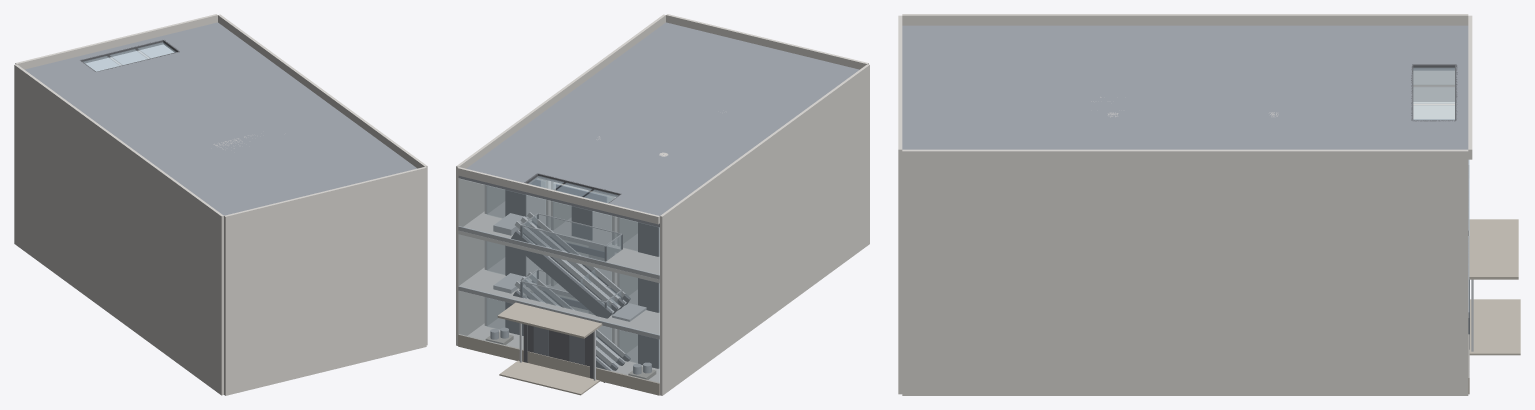
Rendered from acropolis-mall.glb.
The picture shows the model from 3 angles, left to right: view 1: azimuth 30°, elevation 25°; view 2: azimuth 150°, elevation 25°; view 3: azimuth 270°, elevation 25°; orthographic projection. The views are drawn at different scales.
Visible parts, largest first — view 1: MALL_WALL_SIDE_L, MALL_WALL_REAR, MALL_ROOF_C, MALL_ROOF_B, MALL_ROOF_A, MALL_PARAPET_L, MALL_PARAPET_R, MALL_PARAPET_B, MALL_PARAPET_F, MALL_FACADE_B3, MALL_SKYLIGHT_FRAME_F, MALL_ROOF_D (+2 smaller); view 2: MALL_WALL_SIDE_L, MALL_ROOF_C, MALL_ROOF_B, MALL_FACADE_B2, MALL_ROOF_A, MALL_FACADE_B3, MALL_WALL_SIDE_R, MALL_FACADE_B1_L, MALL_FACADE_B1_R, MALL_FACADE_PLINTH, MALL_PARAPET_L, MALL_PARAPET_R (+46 smaller); view 3: MALL_WALL_SIDE_R, MALL_ROOF_C, MALL_ROOF_A, MALL_ROOF_B, MALL_PARAPET_R, MALL_PARAPET_L, MALL_CANOPY_SLAB, MALL_PLAZA, MALL_WALL_SIDE_L, MALL_WALL_REAR, MALL_SKYLIGHT_PANEL_1, MALL_SKYLIGHT_PANEL_2 (+5 smaller).
Boxes of the visible parts, <box> form: MALL_WALL_SIDE_L: <box>14,72,223,395</box>; MALL_WALL_REAR: <box>224,175,426,395</box>; MALL_ROOF_C: <box>96,52,358,203</box>; MALL_ROOF_B: <box>160,22,417,182</box>; MALL_ROOF_A: <box>25,57,274,215</box>; MALL_PARAPET_L: <box>14,64,223,223</box>; MALL_PARAPET_R: <box>218,14,427,173</box>; MALL_PARAPET_B: <box>224,167,426,223</box>; MALL_PARAPET_F: <box>15,14,217,69</box>; MALL_FACADE_B3: <box>86,45,173,71</box>; MALL_SKYLIGHT_FRAME_F: <box>80,40,163,63</box>; MALL_ROOF_D: <box>75,36,163,60</box>; MALL_WALL_SIDE_L: <box>660,72,869,395</box>; MALL_ROOF_C: <box>538,37,808,193</box>; MALL_ROOF_B: <box>458,22,724,192</box>; MALL_FACADE_B2: <box>458,231,659,335</box>; MALL_ROOF_A: <box>601,57,859,227</box>; MALL_FACADE_B3: <box>458,178,659,275</box>; MALL_WALL_SIDE_R: <box>456,173,484,345</box>; MALL_FACADE_B1_L: <box>596,325,659,383</box>; MALL_FACADE_B1_R: <box>458,291,523,349</box>; MALL_FACADE_PLINTH: <box>458,334,659,395</box>; MALL_PARAPET_L: <box>660,64,869,223</box>; MALL_PARAPET_R: <box>456,14,665,173</box>; MALL_WALL_SIDE_R: <box>902,161,1468,395</box>; MALL_ROOF_C: <box>902,64,1412,120</box>; MALL_ROOF_A: <box>902,25,1468,64</box>; MALL_ROOF_B: <box>902,120,1468,149</box>; MALL_PARAPET_R: <box>902,149,1468,161</box>; MALL_PARAPET_L: <box>902,14,1468,25</box>; MALL_CANOPY_SLAB: <box>1469,219,1518,279</box>; MALL_PLAZA: <box>1469,299,1520,355</box>; MALL_WALL_SIDE_L: <box>1413,70,1454,101</box>; MALL_WALL_REAR: <box>898,159,902,394</box>; MALL_SKYLIGHT_PANEL_1: <box>1413,67,1454,85</box>; MALL_SKYLIGHT_PANEL_2: <box>1413,86,1454,104</box>.
Size of what is drawn, in the model's own units: 16.2 by 13.83 by 31.
